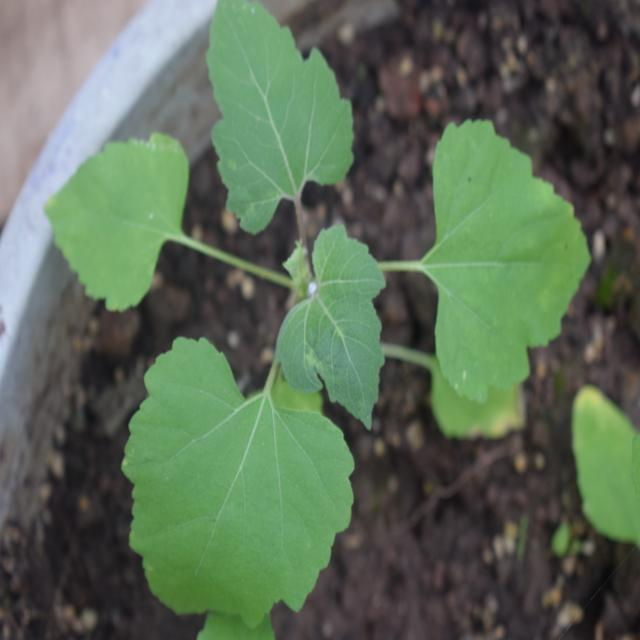cocklebur: (56, 29, 589, 622)
